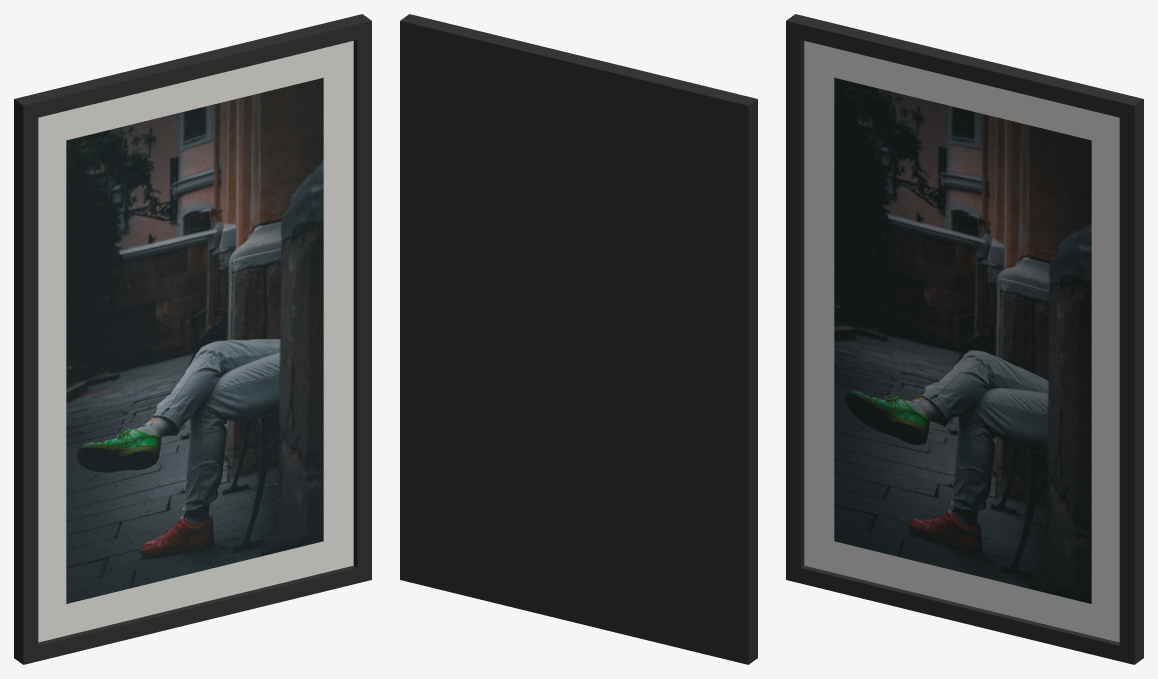
Rendered from skorna-60.gltf.
3 renders of one model, left to right at view 1: azimuth 30°, elevation 25°; view 2: azimuth 150°, elevation 25°; view 3: azimuth 330°, elevation 25°, orthographic.
Visible parts, largest first — view 1: tavla; view 2: tavla; view 3: tavla.
Boxes of the visible parts, bbox=[...] form: tavla: bbox=[14, 14, 371, 664]; tavla: bbox=[400, 14, 757, 664]; tavla: bbox=[786, 14, 1143, 664].
Bounding box in the file's own units: 0.472 × 0.7236 × 0.022.
3 materials, 1 textured.
